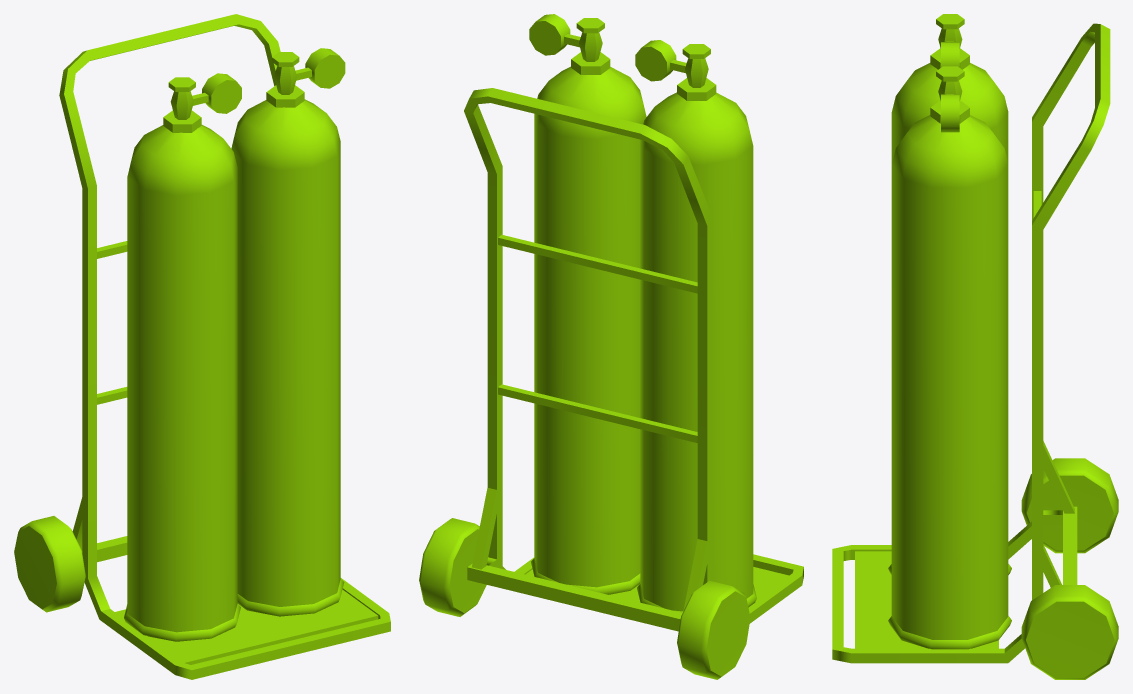
File: Asset_All_4.fbx
3 views of the same model, side by side, from view 1: azimuth 30°, elevation 25°; view 2: azimuth 150°, elevation 25°; view 3: azimuth 270°, elevation 25° (orthographic). The views are drawn at different scales.
Parts seen in each view (by area): view 1: Asset_All_4; view 2: Asset_All_4; view 3: Asset_All_4.
Boxes of the visible parts, box(x1,y1,x2,y2) form: Asset_All_4: box(14, 14, 390, 679); Asset_All_4: box(419, 14, 803, 679); Asset_All_4: box(832, 14, 1118, 679).
Size of the model in its own units: 54.22 by 101 by 46.37.
